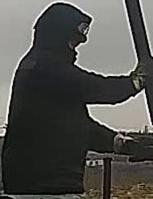gloves: (129, 55, 153, 91), (111, 133, 140, 157)
helmet: (72, 20, 91, 44)
vest: (0, 54, 92, 194)
